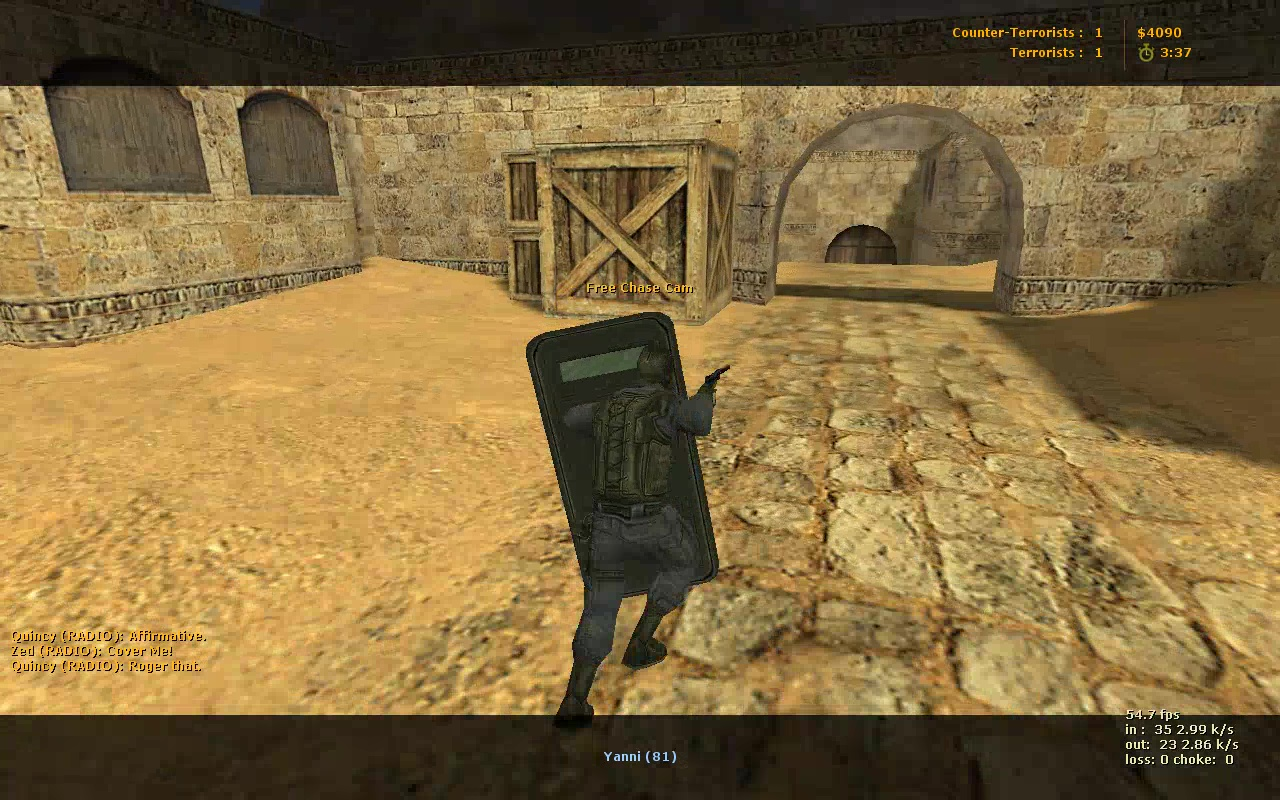ct: (521, 312, 724, 728)
